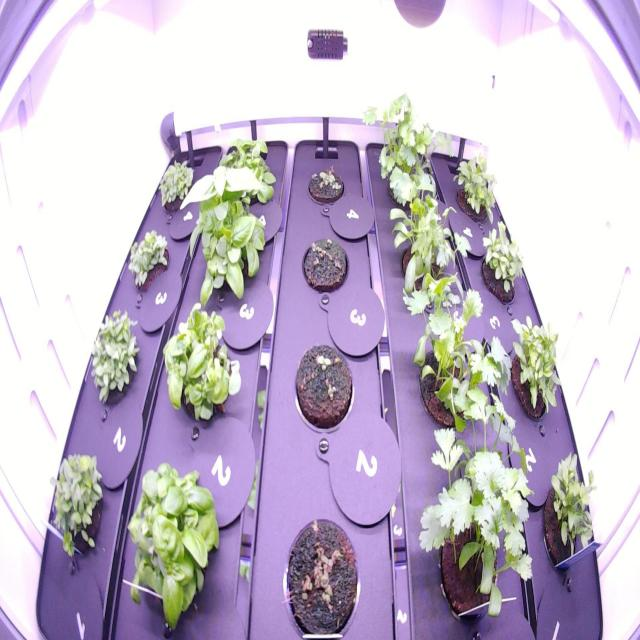germination: (273, 508, 366, 634), (290, 335, 358, 439), (296, 227, 352, 302), (301, 157, 349, 210)
